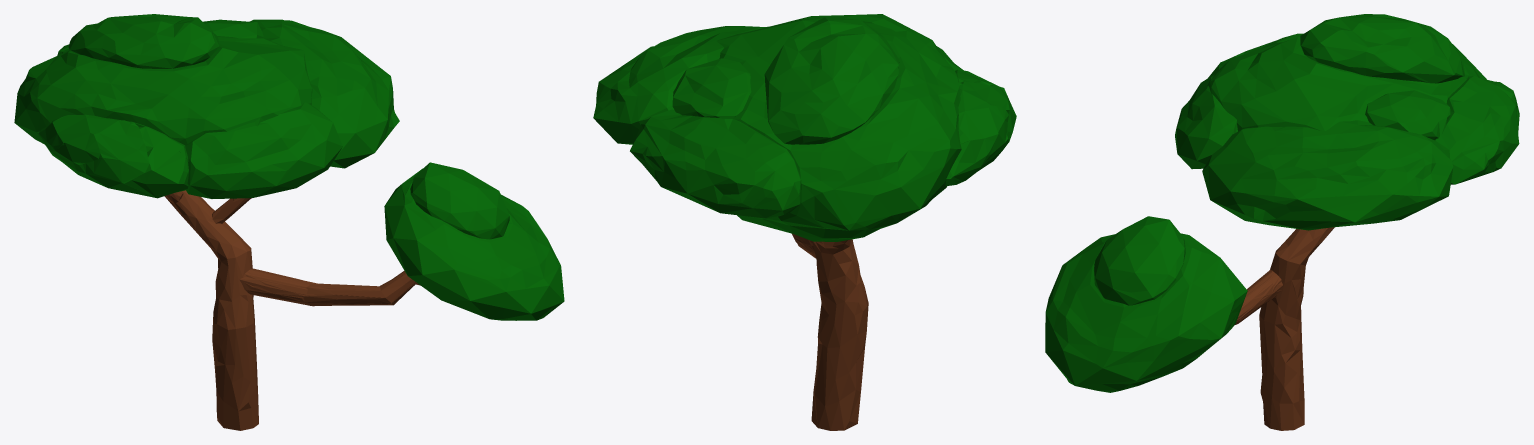
File: Acacia.fbx
The picture shows the model from 3 angles, left to right: view 1: azimuth 30°, elevation 25°; view 2: azimuth 150°, elevation 25°; view 3: azimuth 270°, elevation 25°; orthographic projection. The views are drawn at different scales.
Visible parts, largest first — view 1: Acacia, Trunk acacia; view 2: Acacia, Trunk acacia; view 3: Acacia, Trunk acacia.
Part boxes in pixels (<box>): Acacia: <box>14,14,564,320</box>; Trunk acacia: <box>164,190,420,430</box>; Acacia: <box>593,14,1016,241</box>; Trunk acacia: <box>792,233,868,430</box>; Acacia: <box>1045,14,1519,392</box>; Trunk acacia: <box>1235,227,1334,430</box>.
Size of the model in its own units: 404 by 358 by 391.
